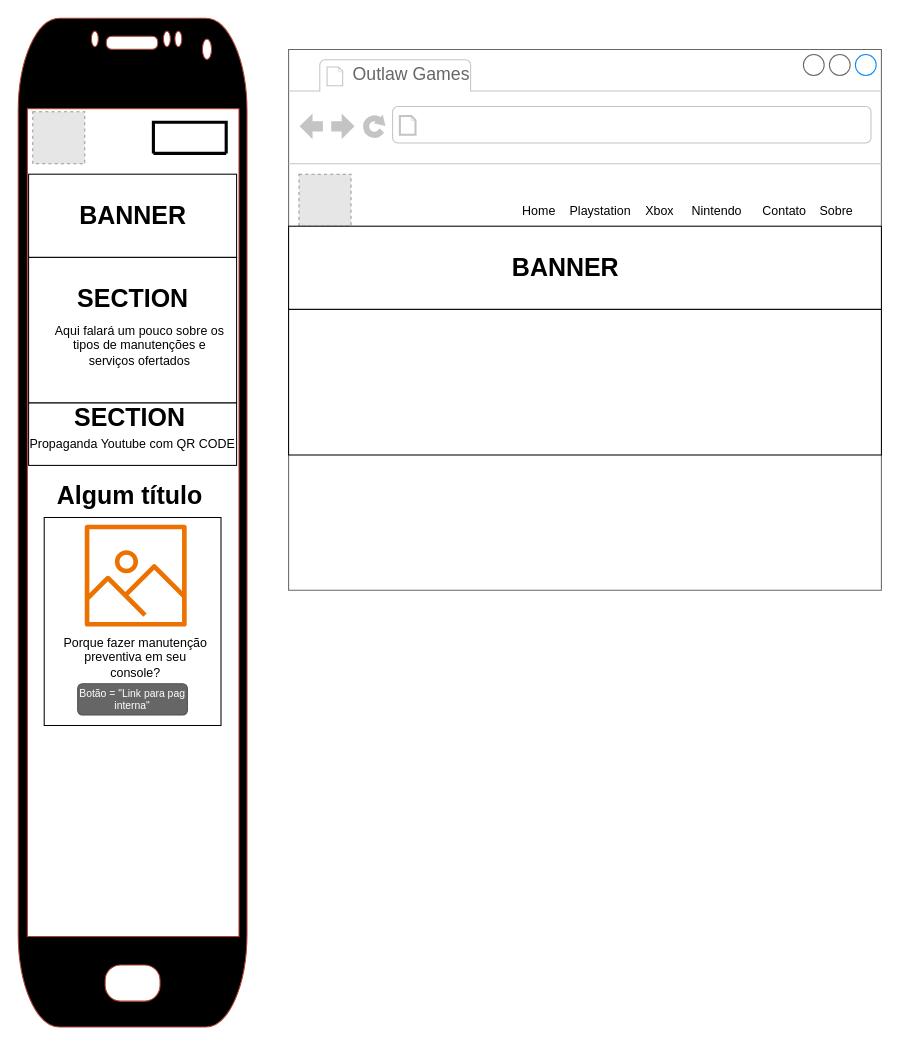
Some shapes in this 900 by 1045 pixel diagram are drawn without their labels. Grey dashed boxes stand in for pictures. The centre of each missing label's shape, as x and y in pixels:
"https://www.draw.io" goes at [553,125].
"Menu" goes at [189,137].
